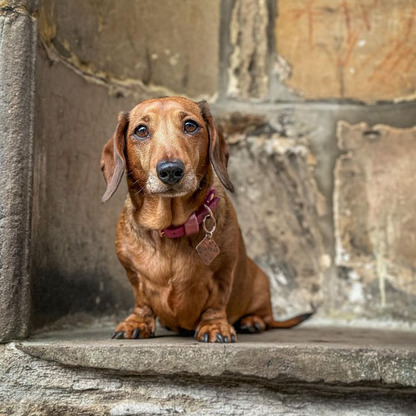dachshund: (75, 86, 340, 371)
